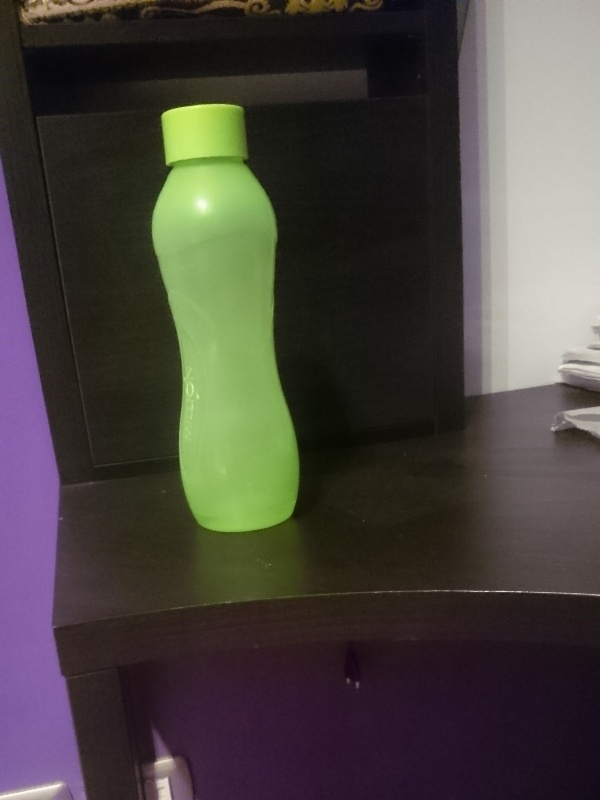my bottle: (146, 99, 302, 533)
